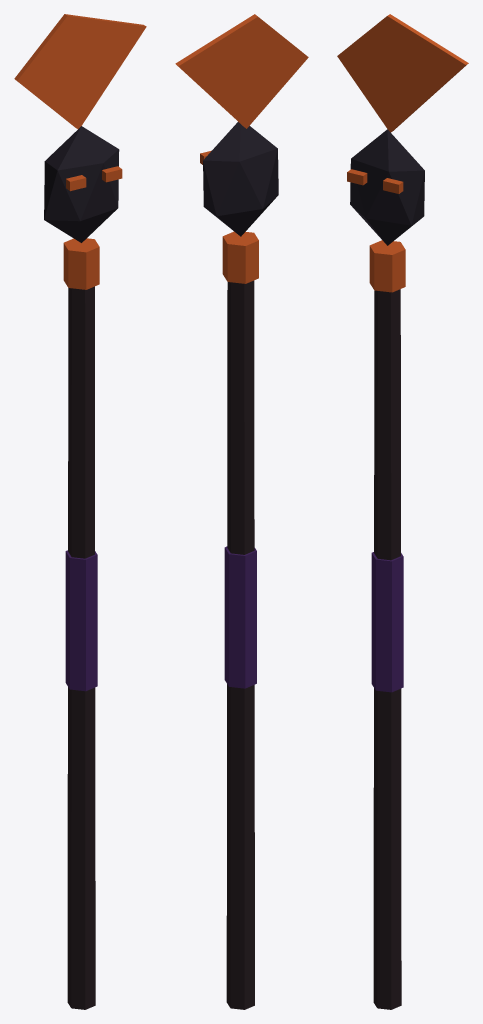
The model's file is weapon_staff.glb.
The picture shows the model from 3 angles, left to right: view 1: azimuth 30°, elevation 25°; view 2: azimuth 210°, elevation 25°; view 3: azimuth 330°, elevation 25°; orthographic projection.
Visible parts, largest first — view 1: demon_weapon_staff; view 2: demon_weapon_staff; view 3: demon_weapon_staff.
Part boxes in pixels (x1,y1,x2,y2): demon_weapon_staff: [14, 14, 146, 1009]; demon_weapon_staff: [175, 14, 308, 1009]; demon_weapon_staff: [337, 14, 468, 1009].
Size of the model in its own units: 0.2162 by 1.57 by 0.0719.
